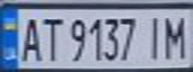1: (84, 15, 106, 62)
3: (103, 15, 124, 62)
7: (118, 14, 142, 62)
9: (63, 15, 87, 62)
A: (15, 14, 45, 63)
I: (142, 12, 169, 61)
M: (160, 11, 190, 60)
T: (36, 14, 66, 62)
